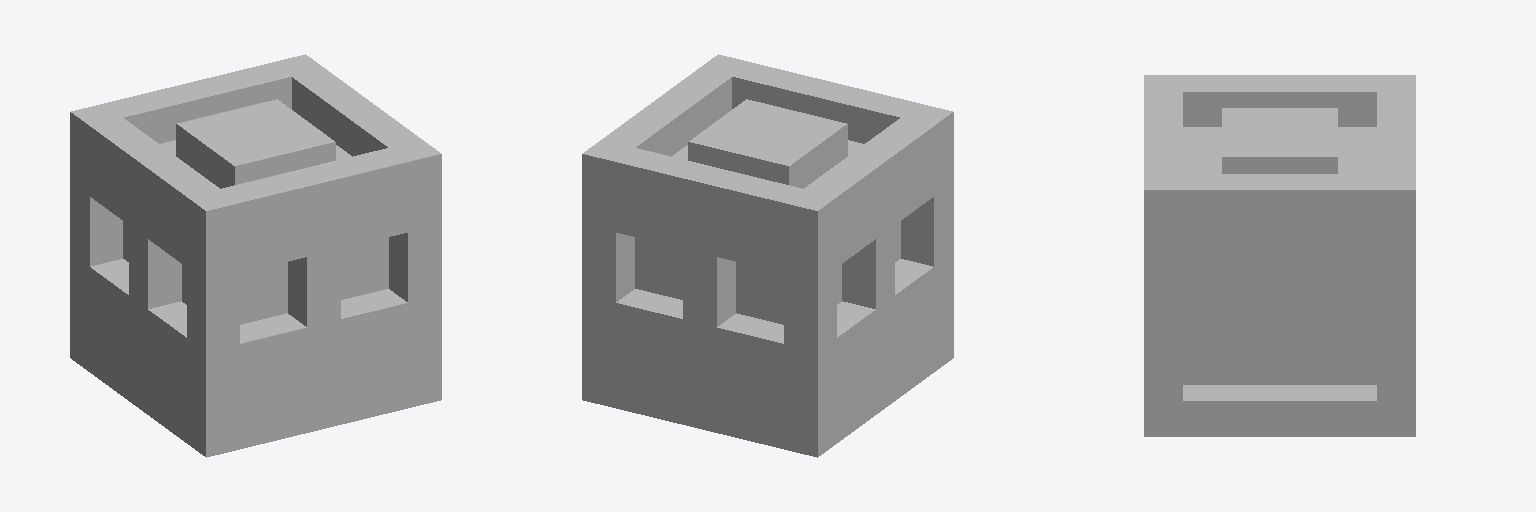
File: robot_pink.obj
3 renders of one model, left to right at view 1: azimuth 30°, elevation 25°; view 2: azimuth 150°, elevation 25°; view 3: azimuth 270°, elevation 25°, orthographic.
Parts seen in each view (by area): view 1: object 1; view 2: object 1; view 3: object 1.
Boxes of the visible parts, <box> form: object 1: <box>70,54,441,457</box>; object 1: <box>582,54,953,457</box>; object 1: <box>1144,75,1415,436</box>.
Size of the model in its own units: 0.7 by 0.7 by 0.7.